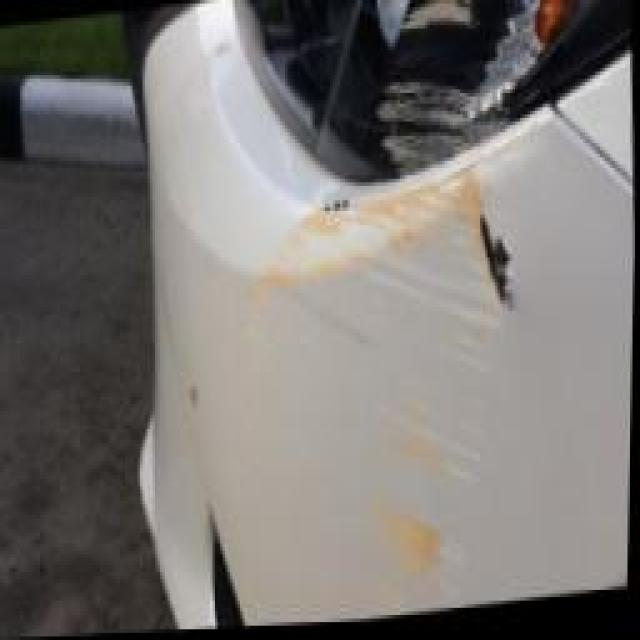Bumper: (218, 129, 635, 632)
Light: (215, 0, 633, 170)
